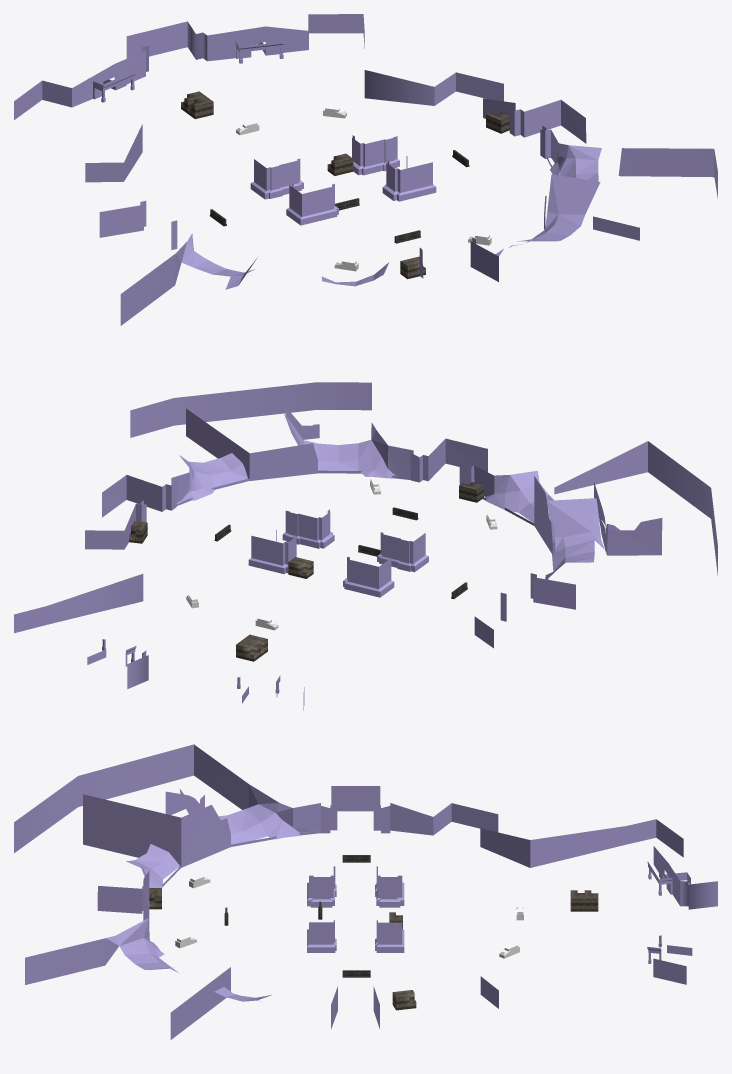
The model's file is France_Col_Move.glb.
3 views of the same model, one above another, from view 1: azimuth 30°, elevation 25°; view 2: azimuth 150°, elevation 25°; view 3: azimuth 270°, elevation 25° (orthographic). The views are drawn at different scales.
Parts seen in each view (by area): view 1: Col; view 2: Col; view 3: Col.
Part boxes in pixels (x1,y1,x2,y2): Col: (14, 14, 717, 325); Col: (14, 382, 717, 710); Col: (14, 744, 717, 1039).
Bounding box in the file's own units: 242 × 20.38 × 253.
4 materials, 2 textured.
